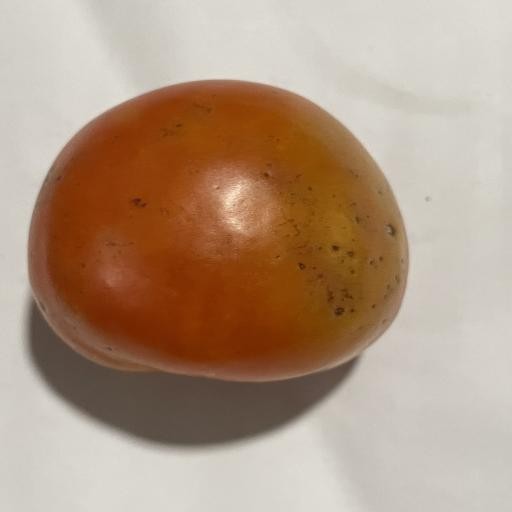overipe: (29, 80, 408, 381)
